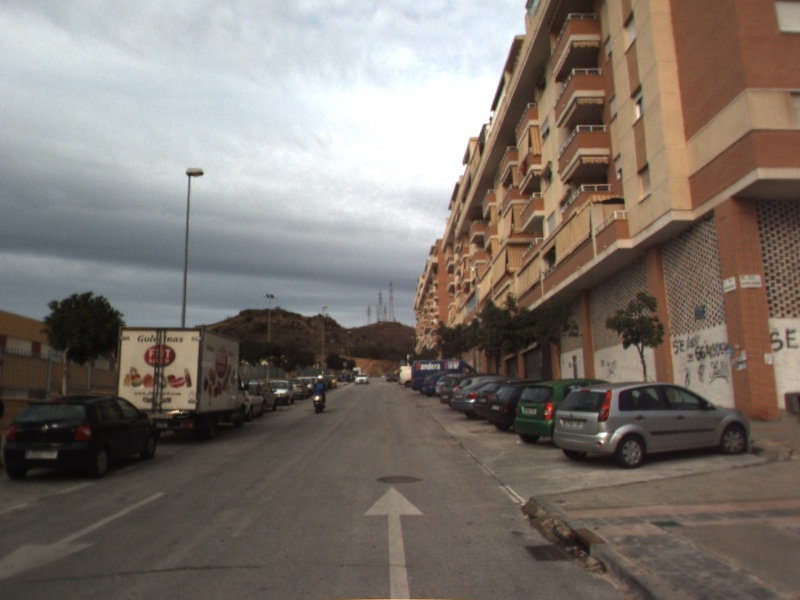STRAIGHT: (361, 484, 426, 600)
